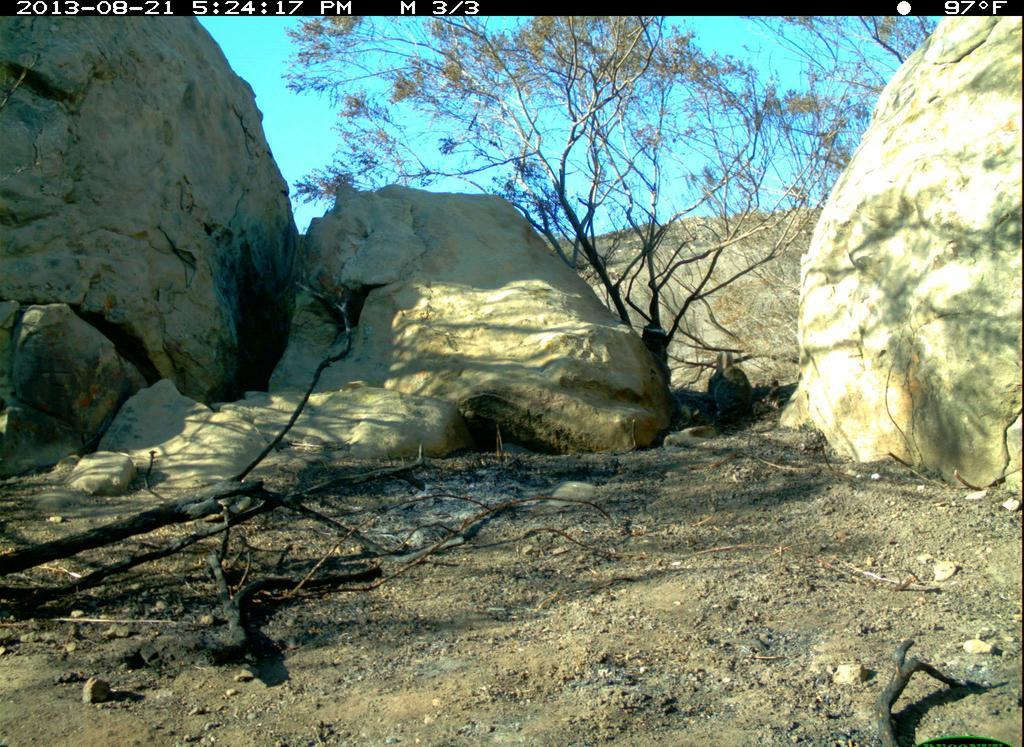rabbit: (703, 347, 762, 427)
